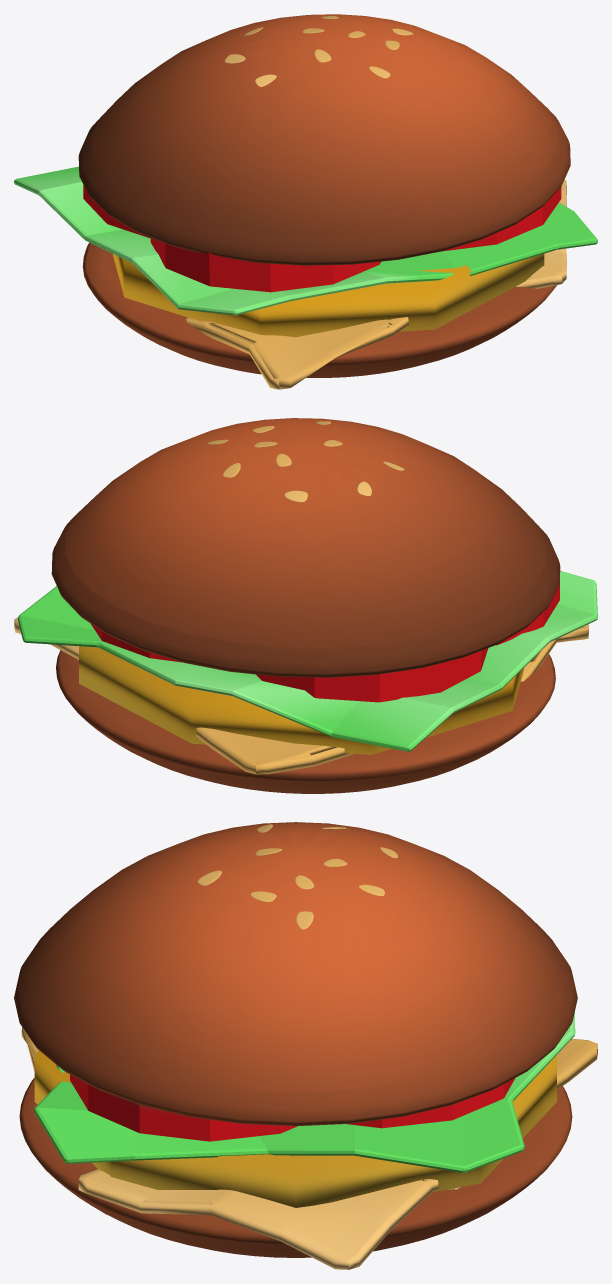
The model's file is BurgerFish.glb.
The picture shows the model from 3 angles, top to bottom: view 1: azimuth 30°, elevation 25°; view 2: azimuth 150°, elevation 25°; view 3: azimuth 270°, elevation 25°; orthographic projection. The views are drawn at different scales.
Parts seen in each view (by area): view 1: BurgerFish; view 2: BurgerFish; view 3: BurgerFish.
Boxes of the visible parts, x1,y1,x2,y2 form: BurgerFish: (14, 14, 597, 389); BurgerFish: (14, 418, 597, 793); BurgerFish: (14, 822, 597, 1269).
Size of the model in its own units: 0.3821 by 0.215 by 0.343.
1 material, 1 textured.
